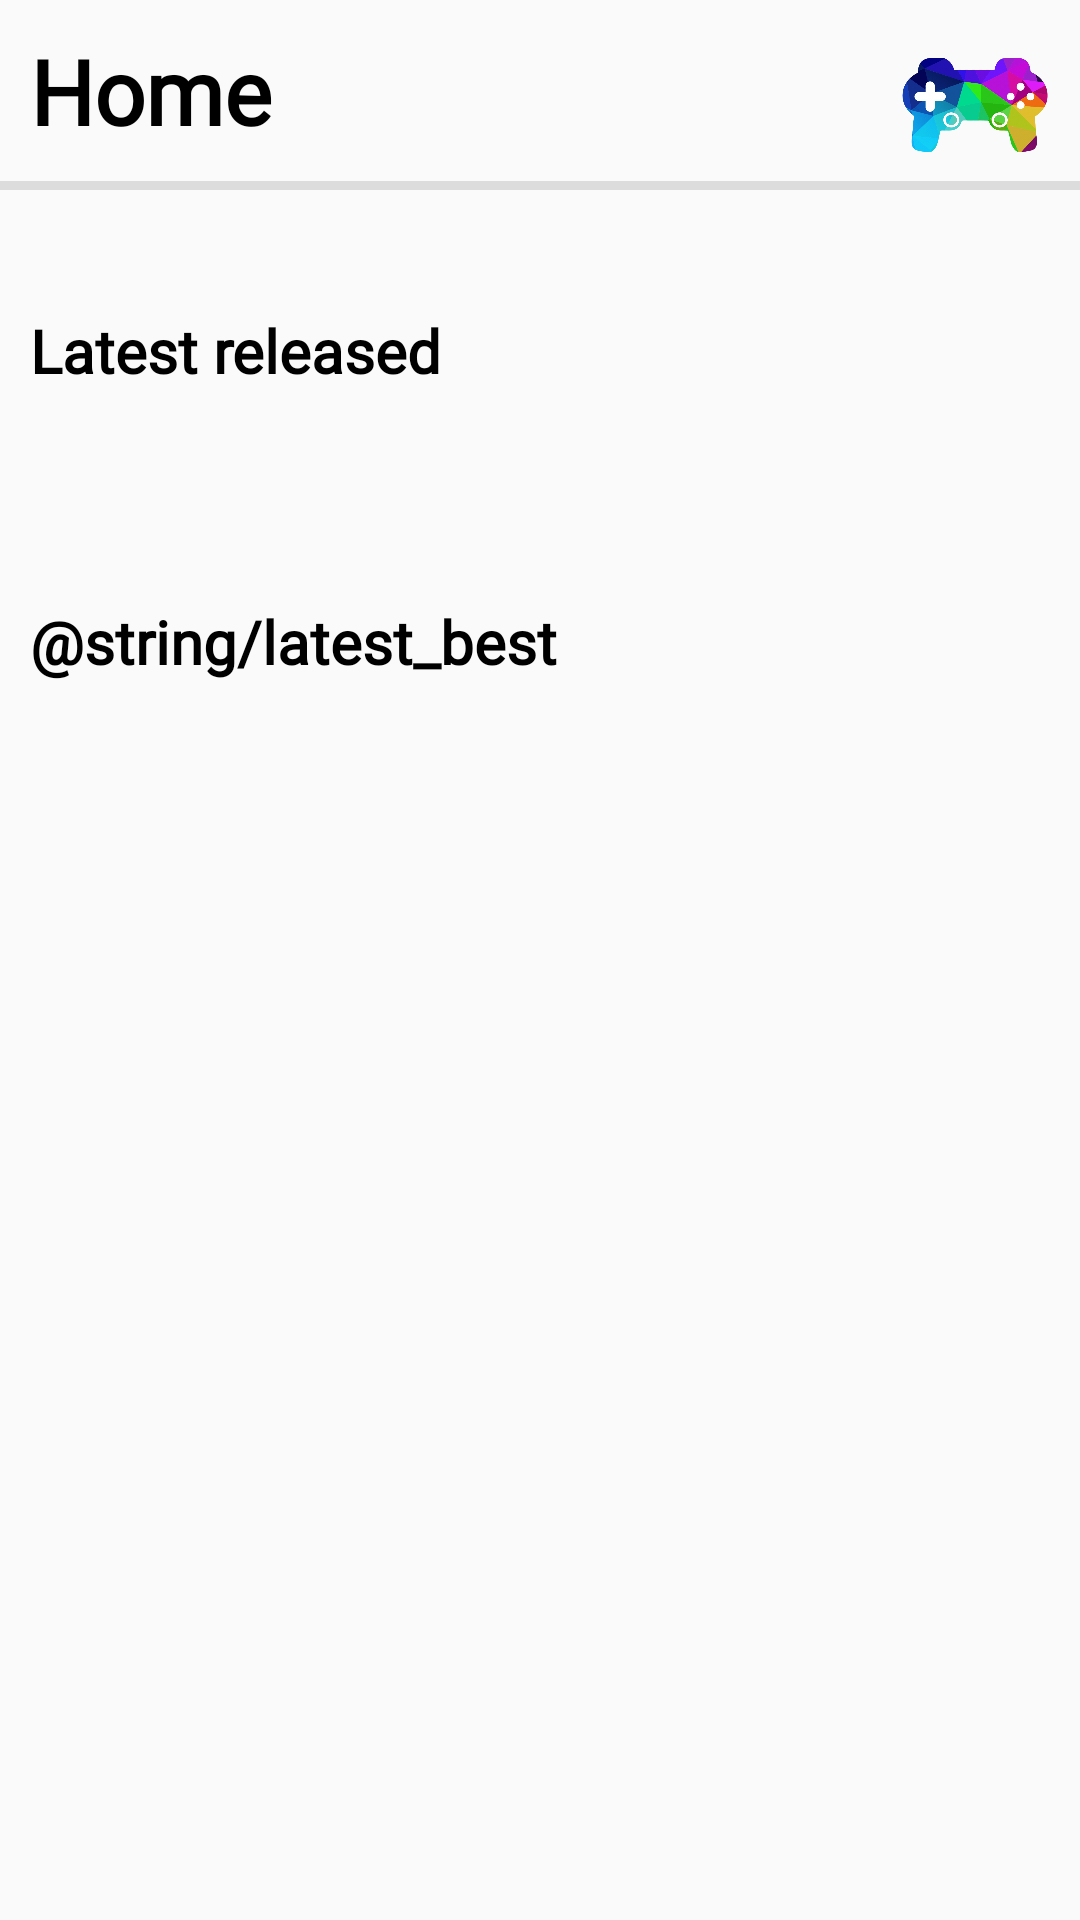

Screen size 1080px×1920px. Icon name, then its center in pixels as point (x, y):
App icon: point (975, 105)
